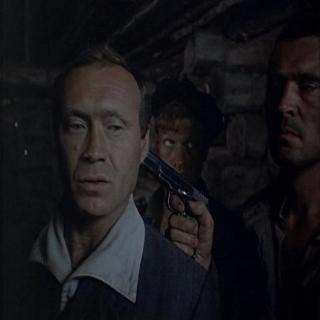gun: (140, 144, 210, 262)
